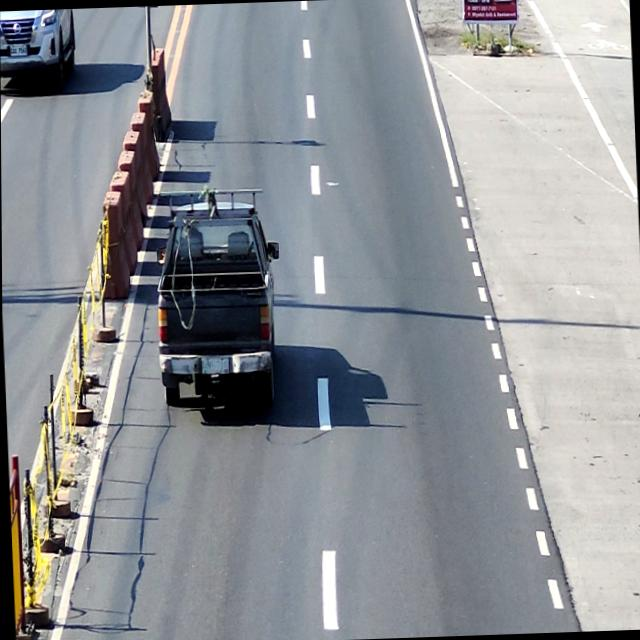Car: (152, 198, 284, 408), (0, 8, 78, 94)
License-Plate: (200, 355, 229, 374), (10, 45, 27, 56)
